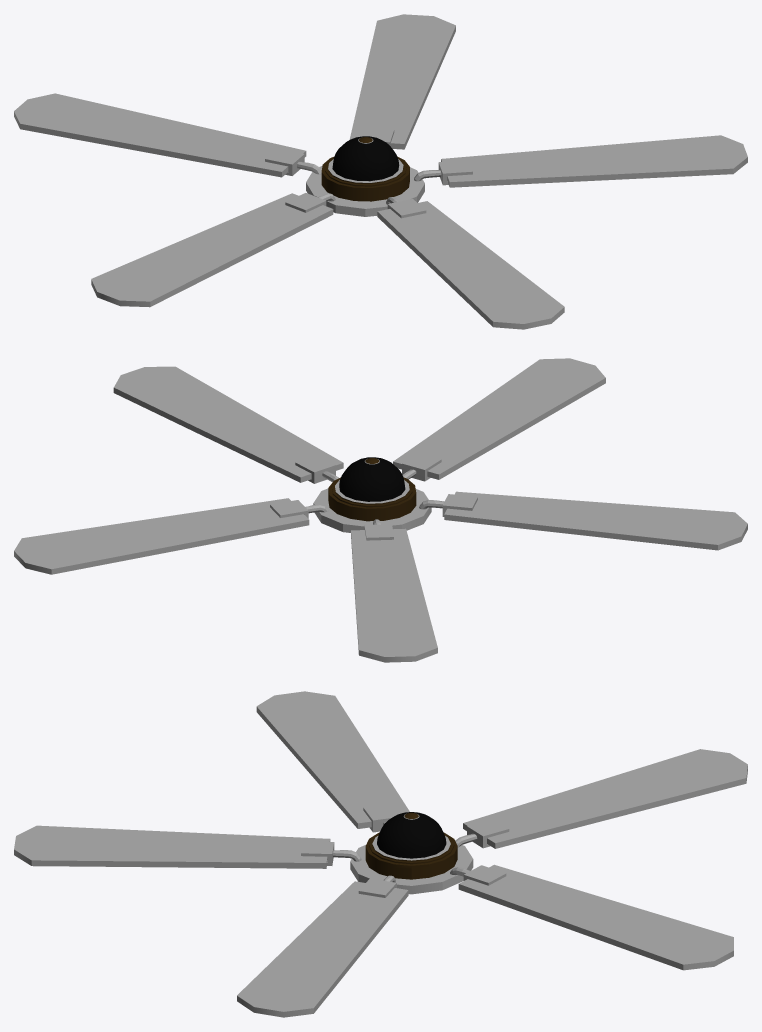
Rendered from ceiling_fan.fbx.
3 views of the same model, one above another, from view 1: azimuth 30°, elevation 25°; view 2: azimuth 150°, elevation 25°; view 3: azimuth 270°, elevation 25° (orthographic). The views are drawn at different scales.
Visible parts, largest first — view 1: ceiling_fan; view 2: ceiling_fan; view 3: ceiling_fan.
Boxes of the visible parts, x1,y1,x2,y2 form: ceiling_fan: [14, 14, 747, 329]; ceiling_fan: [14, 358, 747, 662]; ceiling_fan: [14, 691, 747, 1017].
Size of the model in its own units: 28.83 by 2.35 by 27.89.
